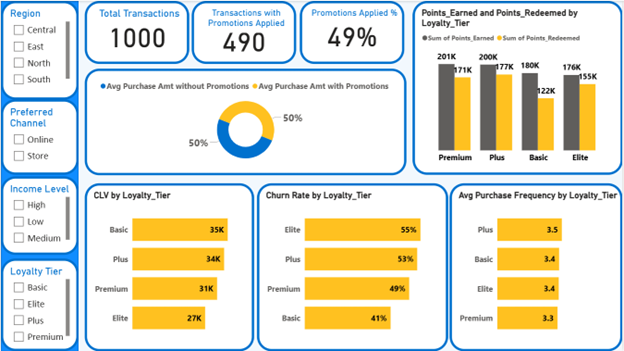

What the dashboard file says about the page in this screenshot:
{"tool":"powerbi","page":{"name":"Loyalty/Promotional Impact","canvas":[1280,720],"ordinal":1},"visuals":[{"type":"card","title":"Transactions with Promotions Applied","fields":{"Values":["Measures (2).Transactions with Promotion Applied"]},"box":[393.3,0,215.4,129.9],"z":0},{"type":"card","title":"Total Transactions","fields":{"Values":["Measures (2).Total Transactions"]},"box":[172.6,0,215.4,129.9],"z":1000},{"type":"card","title":"Promotions Applied %","fields":{"Values":["Measures (2).Promotion Apllied %"]},"box":[615.8,0,215.4,129.9],"z":2000},{"type":"donutChart","title":"Avg Purchase Amt with/without Promotions","fields":{"Y":["Measures (2).Avg Purchase Amt without Promotions","Measures (2).Avg Purchase Amt with Promotions"]},"box":[172.6,138.8,662.1,218.9],"z":3000},{"type":"barChart","fields":{"Category":["Loyalty_Program.Loyalty_Tier"],"Y":["Measures (2).Churn Rate"]},"box":[526.8,375.5,393.3,345.3],"z":4000},{"type":"clusteredColumnChart","title":"Points_Earned and Points_Redeemed by Loyalty_Tier","fields":{"Category":["Loyalty_Program.Loyalty_Tier"],"Y":["Sum(Loyalty_Program.Points_Earned)","Sum(Loyalty_Program.Points_Redeemed)"]},"box":[847.2,0,432.5,357.7],"z":5000},{"type":"barChart","fields":{"Category":["Loyalty_Program.Loyalty_Tier"],"Y":["Measures (2).Avg Purchase Frequency"]},"box":[923.7,375.5,356,345.3],"z":6000},{"type":"shape","box":[0,0,160.2,720.8],"z":7000},{"type":"slicer","title":"Region","fields":{"Values":["Customer_Demographics.Region"]},"box":[0,0,160.1,203.4],"z":8000},{"type":"slicer","title":"Preferred Channel","fields":{"Values":["Customer_Demographics.Preferred_Channel"]},"box":[0,202.9,160.2,154.8],"z":9000},{"type":"slicer","title":"Income Level","fields":{"Values":["Customer_Demographics.Income_Level"]},"box":[0,361.3,160.2,162],"z":10000},{"type":"slicer","title":"Loyalty Tier","fields":{"Values":["Loyalty_Program.Loyalty_Tier"]},"box":[0,529.6,160.2,190.4],"z":11000},{"type":"barChart","title":"CLV by Loyalty_Tier","fields":{"Category":["Loyalty_Program.Loyalty_Tier"],"Y":["Sum(Customer_Demographics.CLV)"]},"box":[172.6,375.5,348.8,345.3],"z":12000}]}

Visuals, with their boxes in screenshot pixels (x1, y1, x2, y2), scaled from the page's 1280x720 canvas onto the 624x351 screenshot:
"Transactions with Promotions Applied" card: (left=192, top=0, right=297, bottom=63)
"Total Transactions" card: (left=84, top=0, right=189, bottom=63)
"Promotions Applied %" card: (left=300, top=0, right=405, bottom=63)
"Avg Purchase Amt with/without Promotions" donutChart: (left=84, top=68, right=407, bottom=174)
barChart - Loyalty_Program.Loyalty_Tier x Measures (2).Churn Rate: (left=257, top=183, right=449, bottom=350)
"Points_Earned and Points_Redeemed by Loyalty_Tier" clusteredColumnChart: (left=413, top=0, right=623, bottom=174)
barChart - Loyalty_Program.Loyalty_Tier x Measures (2).Avg Purchase Frequency: (left=450, top=183, right=623, bottom=350)
shape: (left=0, top=0, right=78, bottom=350)
"Region" slicer: (left=0, top=0, right=78, bottom=99)
"Preferred Channel" slicer: (left=0, top=99, right=78, bottom=174)
"Income Level" slicer: (left=0, top=176, right=78, bottom=255)
"Loyalty Tier" slicer: (left=0, top=258, right=78, bottom=350)
"CLV by Loyalty_Tier" barChart: (left=84, top=183, right=254, bottom=350)
